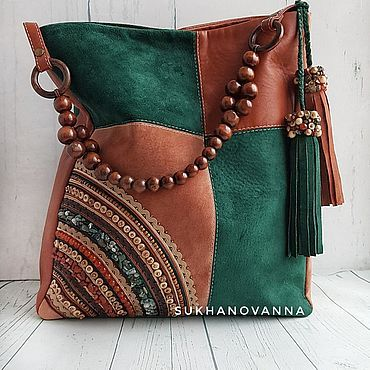cuero: (24, 2, 344, 323)
